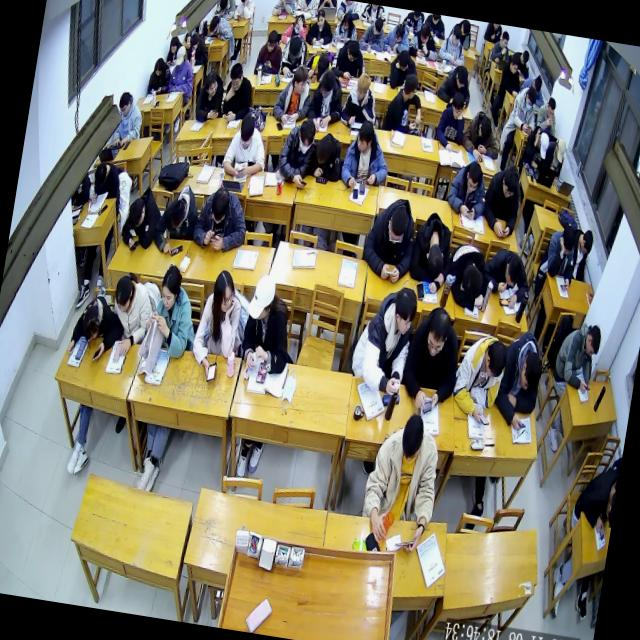bow: (450, 331, 510, 425), (495, 330, 547, 430), (191, 183, 251, 255), (406, 210, 454, 294), (67, 292, 122, 363), (442, 240, 492, 311), (152, 184, 200, 256), (480, 162, 525, 238), (478, 248, 533, 310), (445, 158, 491, 222), (119, 186, 162, 250), (459, 110, 504, 164), (308, 129, 347, 182), (435, 63, 475, 110), (406, 19, 442, 62), (387, 47, 420, 92), (280, 10, 310, 46), (382, 20, 412, 54), (302, 51, 333, 83), (185, 32, 212, 68), (208, 12, 238, 44), (510, 49, 532, 80), (213, 0, 237, 21)
down: (398, 410, 426, 463), (424, 309, 451, 359), (247, 275, 275, 322), (518, 351, 544, 394), (483, 340, 509, 380), (112, 274, 134, 314), (296, 116, 318, 154), (80, 305, 102, 343), (386, 207, 408, 244), (209, 187, 231, 224), (237, 112, 256, 149), (500, 166, 520, 200), (168, 197, 188, 231), (584, 324, 604, 358), (126, 197, 146, 230), (502, 255, 522, 285), (463, 161, 481, 194), (315, 134, 334, 164), (318, 68, 336, 99), (354, 72, 372, 103), (560, 226, 576, 257), (227, 61, 244, 90), (450, 92, 466, 120), (535, 130, 550, 159), (92, 162, 108, 189), (117, 91, 132, 118), (477, 116, 492, 142), (580, 230, 595, 256), (288, 34, 302, 58), (554, 138, 568, 162), (524, 86, 538, 110), (346, 41, 360, 64), (418, 21, 432, 44), (454, 67, 468, 90), (396, 51, 411, 72), (266, 28, 278, 52), (316, 54, 330, 74), (174, 46, 186, 68), (394, 22, 406, 44), (545, 98, 557, 120), (451, 25, 462, 47), (153, 56, 165, 76), (208, 14, 220, 34), (372, 16, 384, 36), (499, 30, 510, 50), (294, 14, 304, 35), (341, 11, 352, 30), (189, 34, 200, 52), (509, 56, 519, 74), (170, 34, 178, 54), (520, 49, 530, 64), (218, 0, 230, 11), (239, 0, 250, 4)
lookup: (158, 266, 183, 312), (316, 7, 327, 27)
sit: (356, 408, 446, 556), (348, 280, 421, 396), (398, 302, 468, 414), (188, 266, 248, 381), (238, 272, 300, 377), (142, 262, 204, 361), (360, 195, 420, 285), (106, 274, 156, 360), (339, 116, 395, 192), (553, 319, 603, 394), (221, 110, 272, 182), (274, 113, 318, 188), (270, 61, 316, 126), (539, 221, 580, 291), (383, 70, 427, 134), (305, 69, 347, 133), (340, 70, 382, 130), (432, 90, 470, 154), (220, 61, 256, 124), (112, 91, 146, 149), (192, 69, 228, 123), (329, 38, 369, 82), (90, 160, 126, 208), (508, 84, 540, 136), (253, 28, 286, 77), (167, 44, 197, 95), (278, 31, 309, 78), (436, 23, 469, 67), (522, 124, 552, 170), (569, 227, 595, 280), (305, 7, 337, 47), (358, 15, 388, 53), (499, 56, 525, 98), (332, 10, 361, 46), (534, 96, 560, 136), (147, 57, 173, 96), (544, 137, 567, 178), (491, 29, 512, 64), (232, 0, 258, 24), (166, 34, 184, 68)
